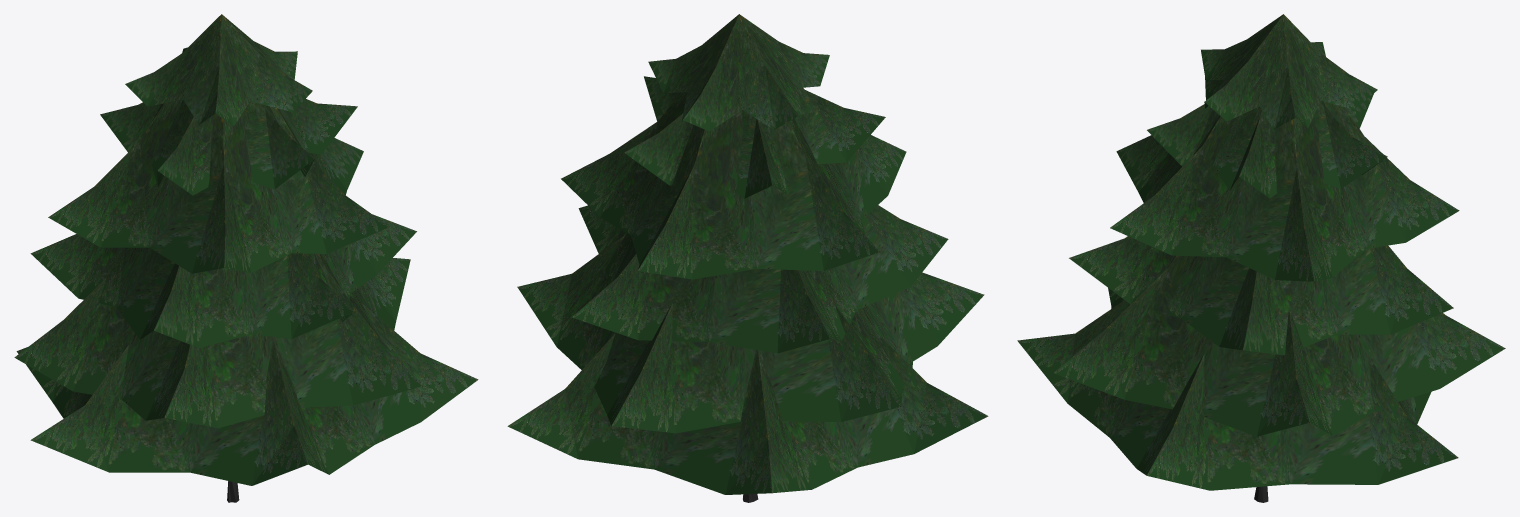
File: pine.dae
3 renders of one model, left to right at view 1: azimuth 30°, elevation 25°; view 2: azimuth 150°, elevation 25°; view 3: azimuth 270°, elevation 25°, orthographic. The views are drawn at different scales.
Visible parts, largest first — view 1: node_id7_001; view 2: node_id7_001; view 3: node_id7_001.
Part boxes in pixels (<box>): node_id7_001: <box>14,14,478,502</box>; node_id7_001: <box>507,14,988,502</box>; node_id7_001: <box>1017,14,1505,502</box>.
Size of the model in its own units: 3.13 by 3.12 by 3.42.
Materials: 2 (2 with a texture image).
